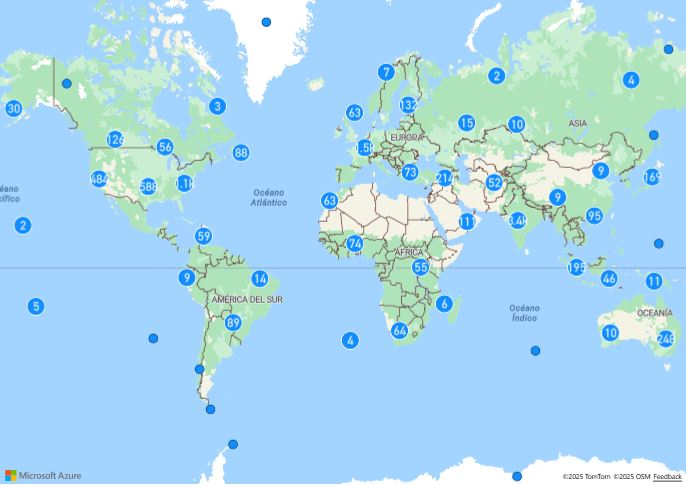

The page's visual inventory and layout, read from the dashboard file:
{"tool":"powerbi","page":{"name":"price_filter","canvas":[1280,720],"ordinal":0},"visuals":[{"type":"azureMap","fields":{"Category":["price_per_locality.locality + region"]},"box":[848.1,61.5,381,658.4],"z":0},{"type":"slicer","title":"Price (rupees)","fields":{"Values":["price_per_locality.Average price"]},"box":[318.2,61.4,495.2,162.7],"z":1000}]}

Visuals, with their boxes on the page's 1280x720 design canvas (x1, y1, x2, y2). These are canvas units, not pixel positions in the 686x485 screenshot, which may show the page scaled, cropped or inside an application window:
azureMap - price_per_locality.locality + region: (848, 62, 1229, 720)
"Price (rupees)" slicer: (318, 61, 813, 224)
